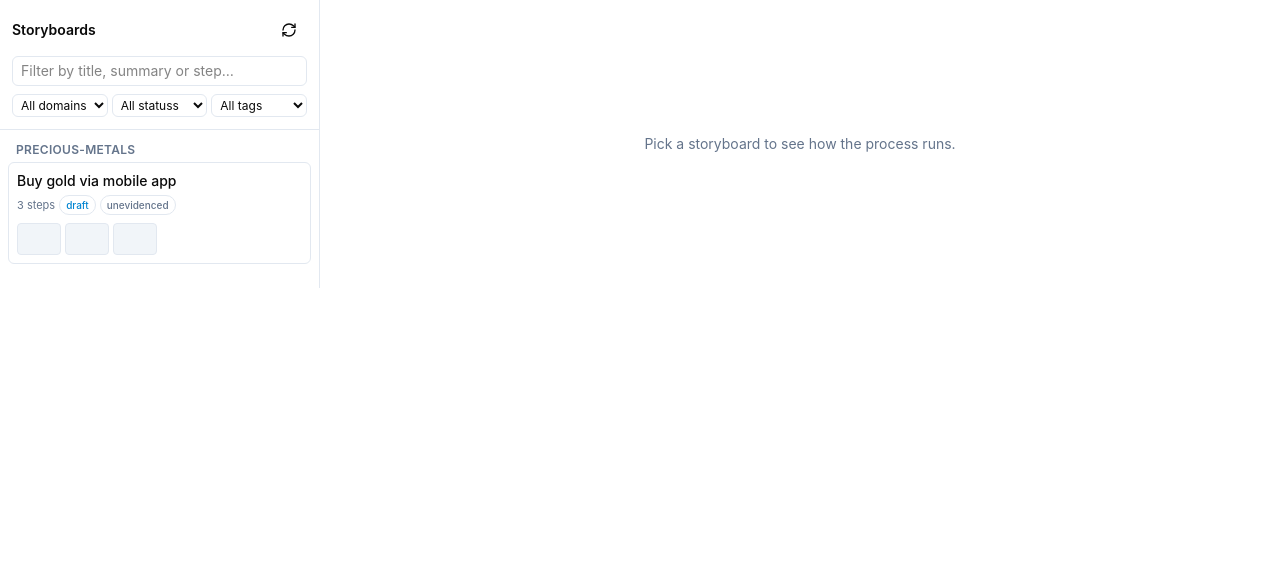
Test: Storyboard reader › e does nothing when the storyboards are read-only
This screenshot has width=1280, height=582.
Click the button "Buy gold via mobile app 3 steps draft unevidenced" at (160, 213), box [8,162,311,264]
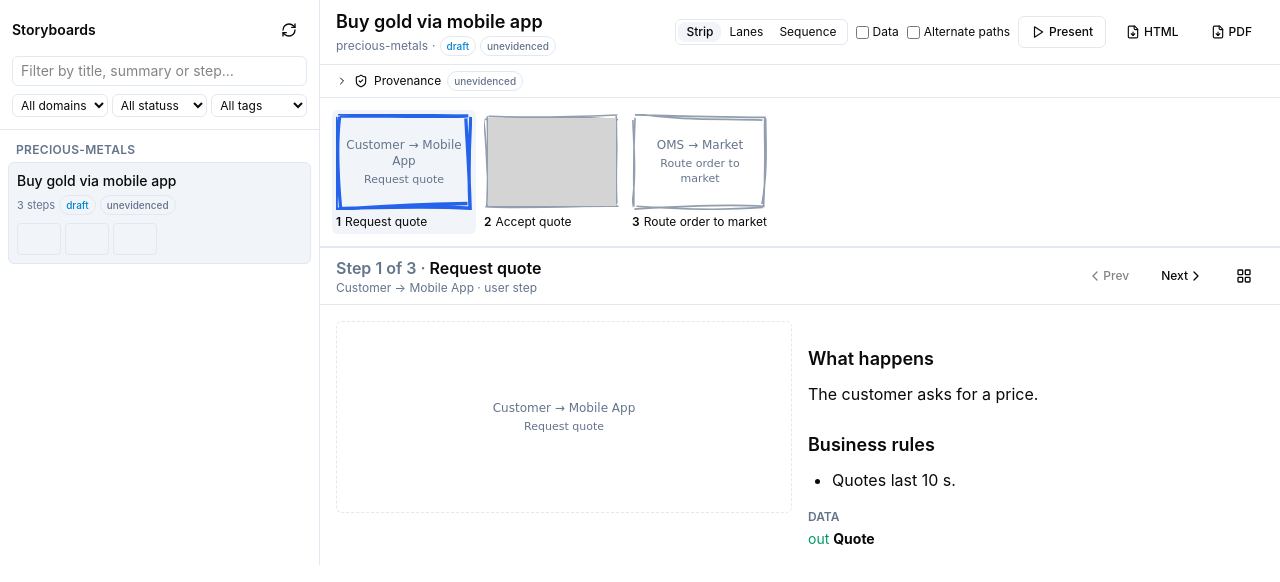
Result: the heading "Buy gold via mobile app" is shown at [336,8,556,36]
